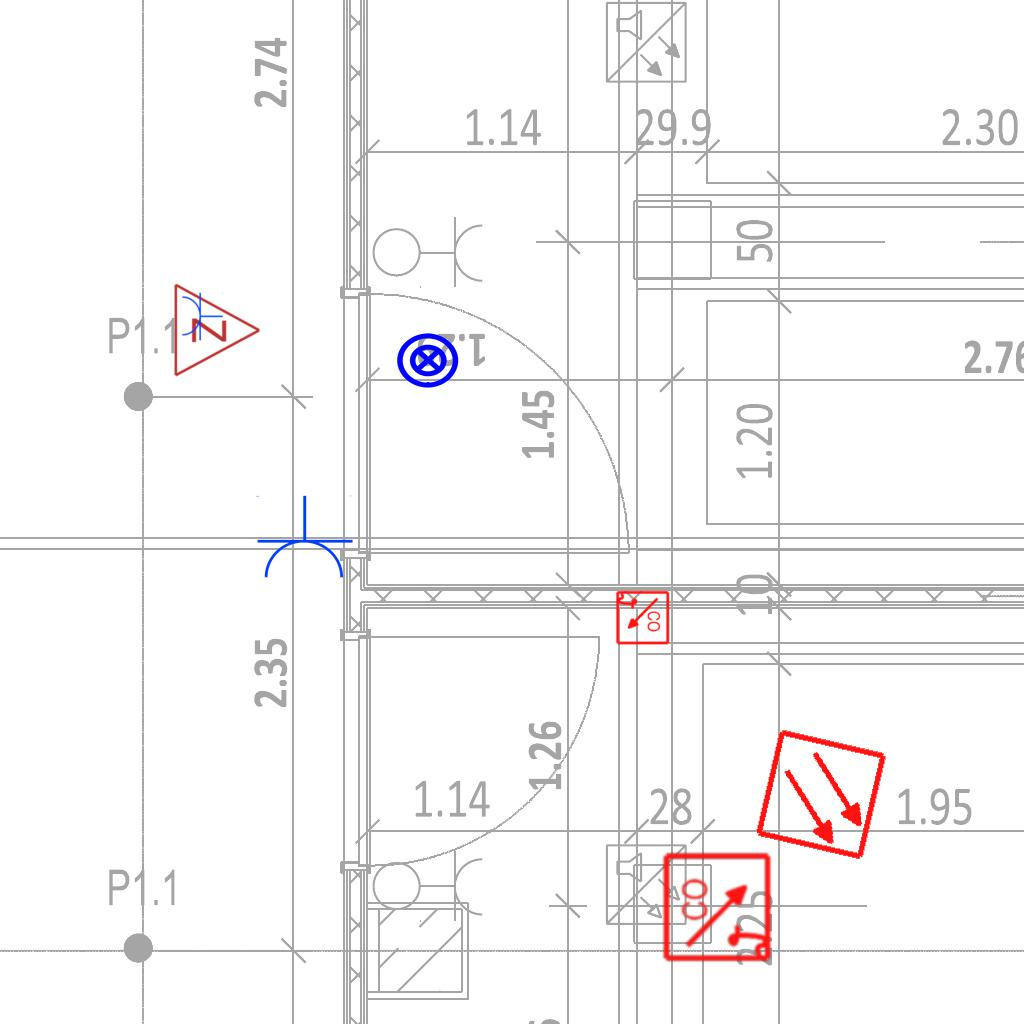RMO_Rauchmelder_optischer: (753, 726, 890, 863)
ROA_Rauchmelder_optisch_mit_Signalgeber_(Sockelsirene): (662, 850, 775, 963), (614, 590, 670, 646)
Schukosteckdose_einfach: (254, 495, 354, 582), (180, 291, 223, 341)
Taster_beleuchtet: (395, 327, 461, 393)
Zimmersignalleuchte: (167, 280, 267, 378)
